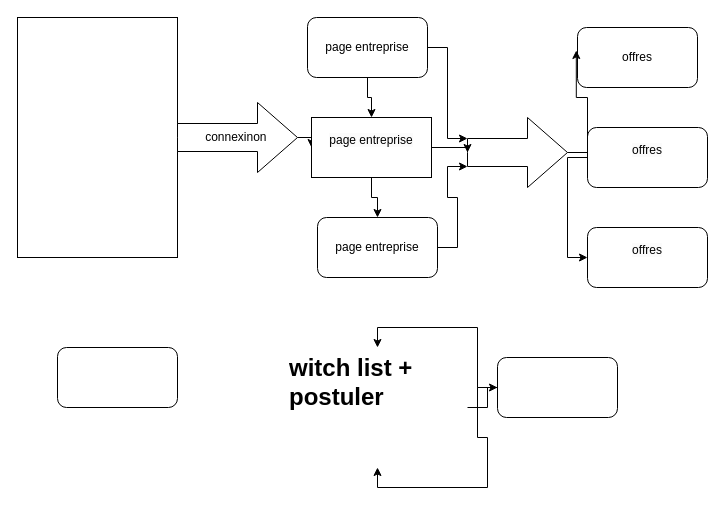
Image size: 725x513. Some labels were removed from this diagram. Each missing label, with the centre of its shape:
acceuile home page for all: (97,137)
dashobrd moderateur: (117,377)
gestion de candidture: (557,387)
